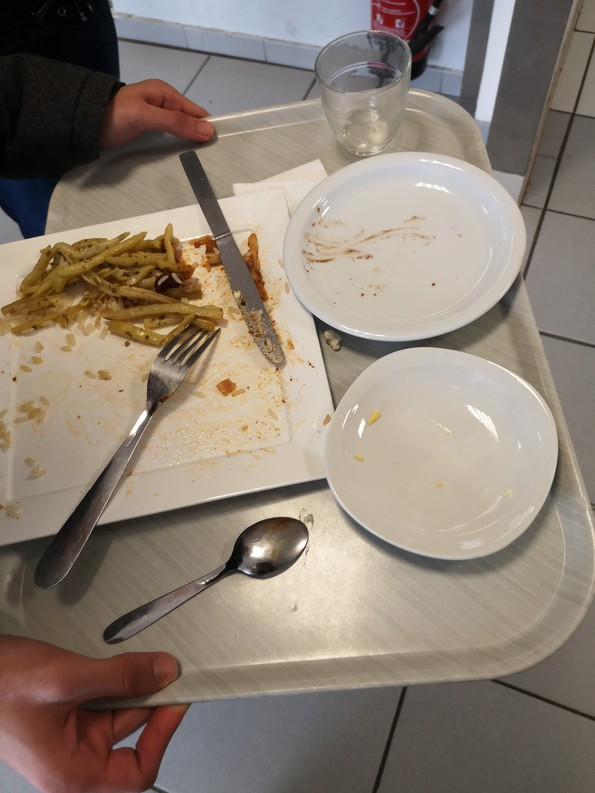cup: (293, 13, 434, 156)
cutlery: (34, 320, 224, 585), (101, 518, 318, 646), (177, 149, 294, 368)
orga: (20, 225, 198, 342)
